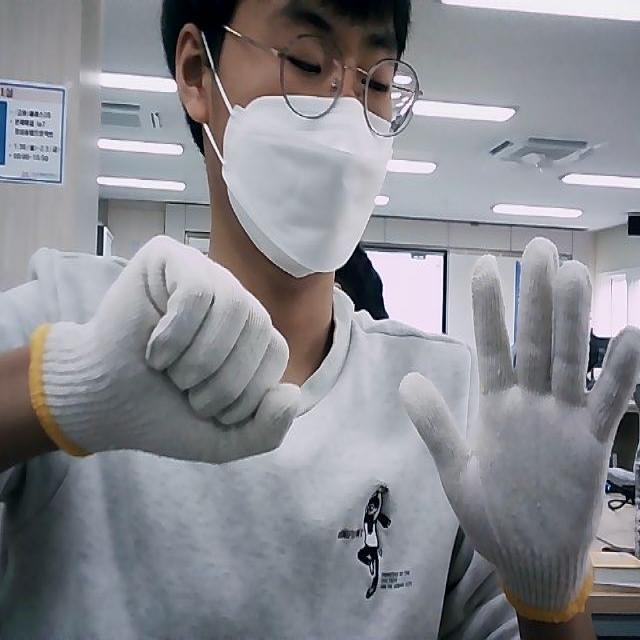Guantes: (400, 237, 640, 620), (30, 236, 303, 468)
